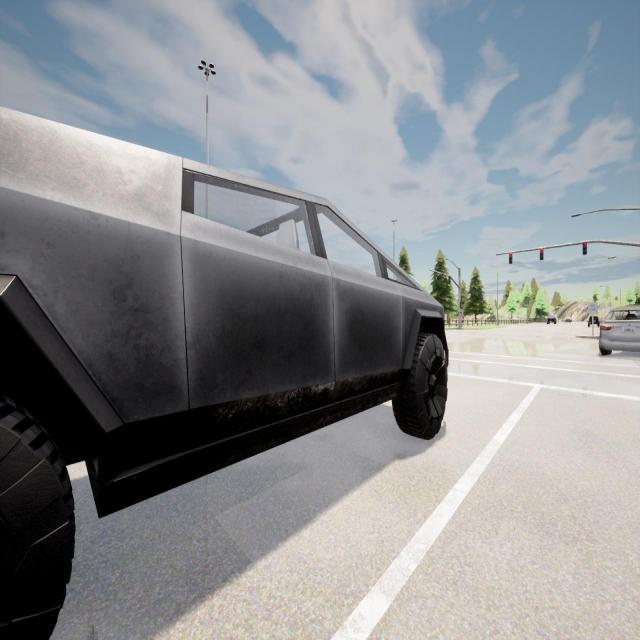Traffic_Signs: (588, 303, 597, 314), (459, 310, 463, 316)
Vehicle: (0, 109, 448, 637), (599, 304, 640, 356), (586, 316, 600, 328), (546, 315, 557, 324), (564, 318, 572, 322)
traffic_light: (583, 242, 587, 255), (540, 248, 543, 260), (509, 253, 512, 264), (441, 273, 444, 283), (458, 302, 462, 309), (434, 272, 437, 280), (448, 276, 451, 284)
